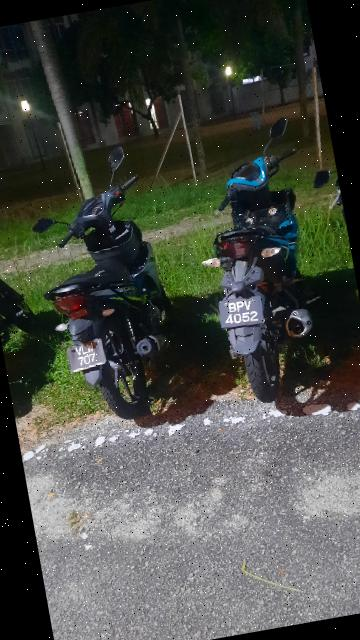License_Plate: (213, 288, 271, 340), (62, 333, 109, 379)
motorcycle: (164, 81, 348, 425), (17, 122, 200, 440)
